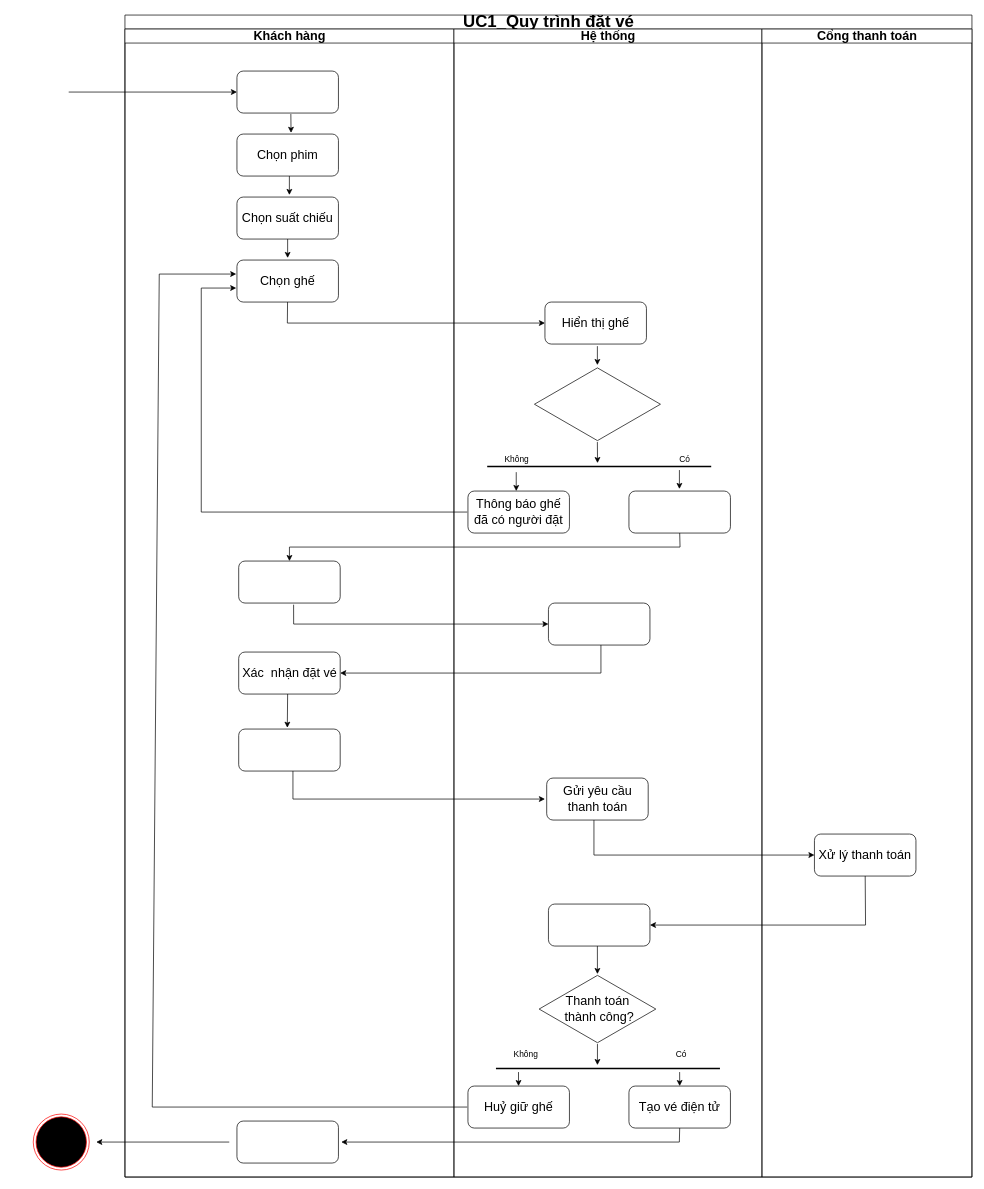
Image size: 984x1189. Some labels were removed from this diagram. Each missing label, with the centre of its shape:
Chọn combo: [289,581]
Chọn phương thức thanh toán: [289,749]
Giữ ghế X phút: [679,511]
Hiển thị tổng tiền: [599,623]
Kiểm tra ghế còn trống?: [597,404]
Nhận kết quả: [599,924]
Nhận vé điện tử: [287,1141]
Đăng nhập: [287,91]
